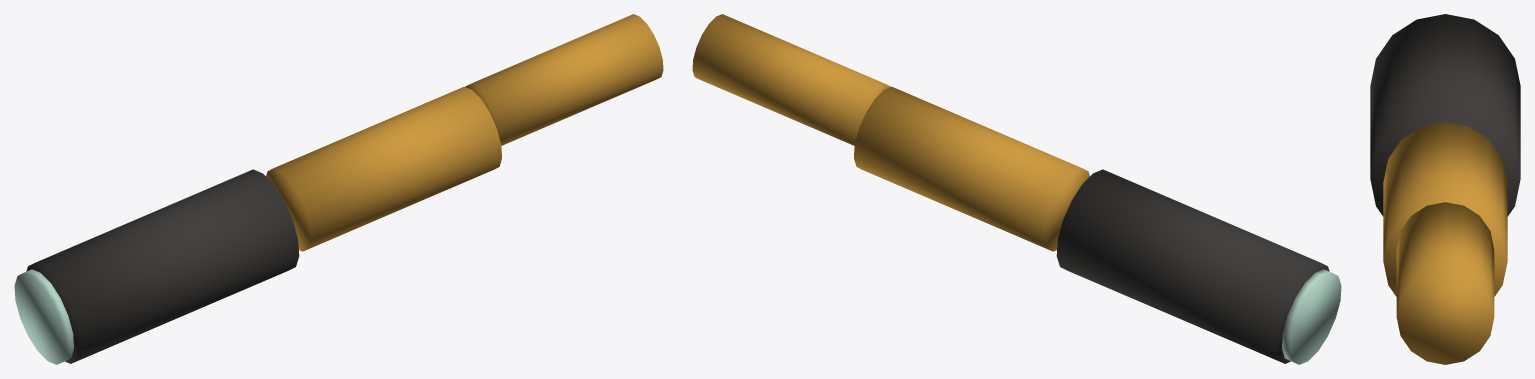
The model's file is spyglass.glb.
3 views of the same model, side by side, from view 1: azimuth 30°, elevation 25°; view 2: azimuth 150°, elevation 25°; view 3: azimuth 270°, elevation 25° (orthographic). The views are drawn at different scales.
Parts seen in each view (by area): view 1: draw, draw.001, draw.002, glass; view 2: draw, draw.001, draw.002, glass; view 3: draw, draw.002, draw.001.
Part boxes in pixels (x1,y1,x2,y2): draw: [26, 169, 299, 363]; draw.001: [266, 86, 501, 251]; draw.002: [465, 14, 663, 145]; glass: [14, 269, 73, 364]; draw: [1056, 169, 1329, 363]; draw.001: [854, 86, 1089, 251]; draw.002: [692, 14, 890, 145]; glass: [1282, 269, 1341, 364]; draw: [1370, 14, 1520, 216]; draw.002: [1396, 202, 1494, 364]; draw.001: [1383, 122, 1507, 296].
Bounding box in the file's own units: 0.4462 × 0.1395 × 0.068.
